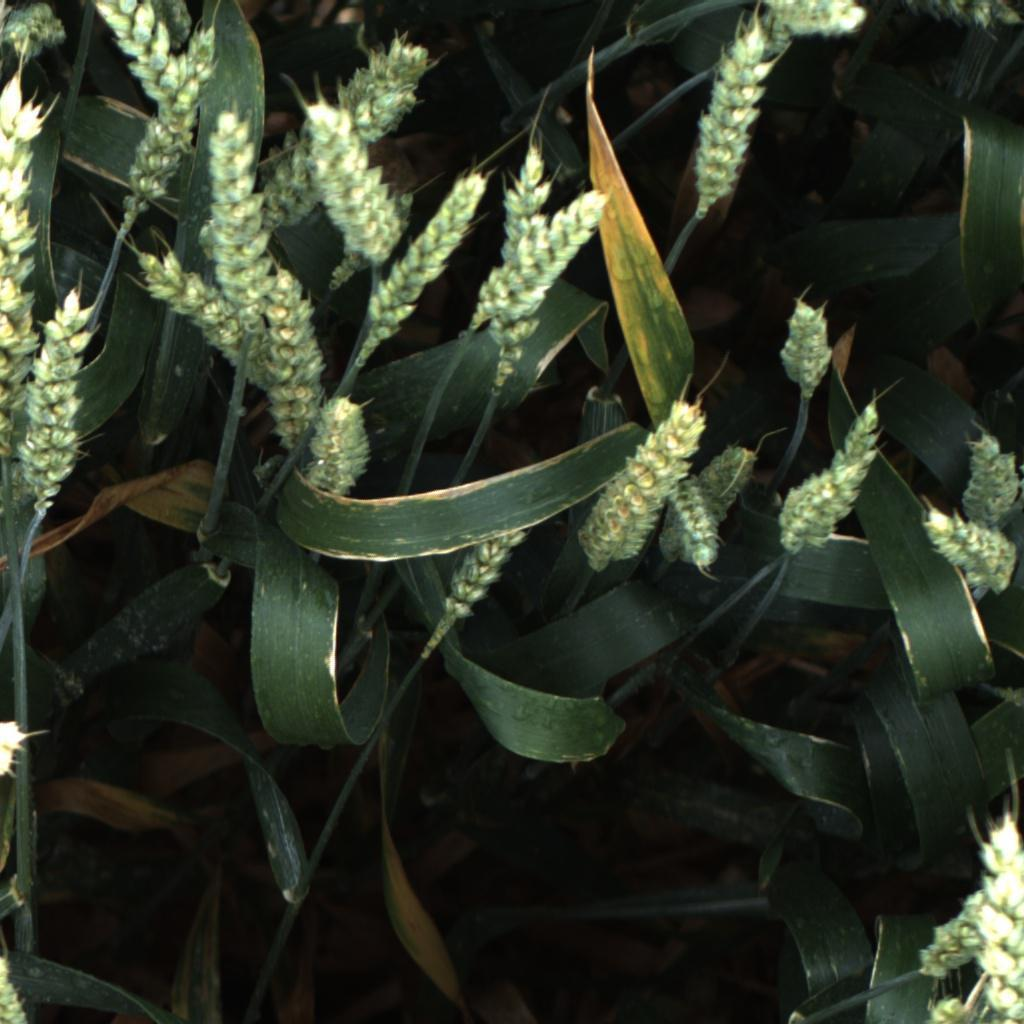0-0: (252, 25, 440, 246), (130, 237, 284, 409), (580, 382, 710, 576), (461, 185, 621, 342), (360, 169, 485, 363), (121, 25, 237, 231), (0, 75, 59, 470), (684, 20, 791, 225), (200, 107, 287, 344), (26, 275, 106, 530), (299, 97, 408, 267), (778, 401, 884, 562), (489, 140, 549, 376), (961, 802, 1023, 1024), (262, 268, 326, 453), (83, 0, 185, 108), (324, 189, 419, 298), (904, 875, 985, 986), (920, 506, 1016, 599), (438, 528, 525, 624), (772, 285, 842, 395), (304, 387, 372, 500), (954, 419, 1024, 524), (754, 0, 878, 58), (660, 482, 728, 573), (244, 123, 308, 204), (888, 0, 1024, 38), (699, 438, 757, 526), (0, 417, 45, 526), (0, 0, 70, 67), (0, 709, 43, 794), (146, 0, 198, 63), (0, 943, 36, 1024), (908, 990, 984, 1024)
